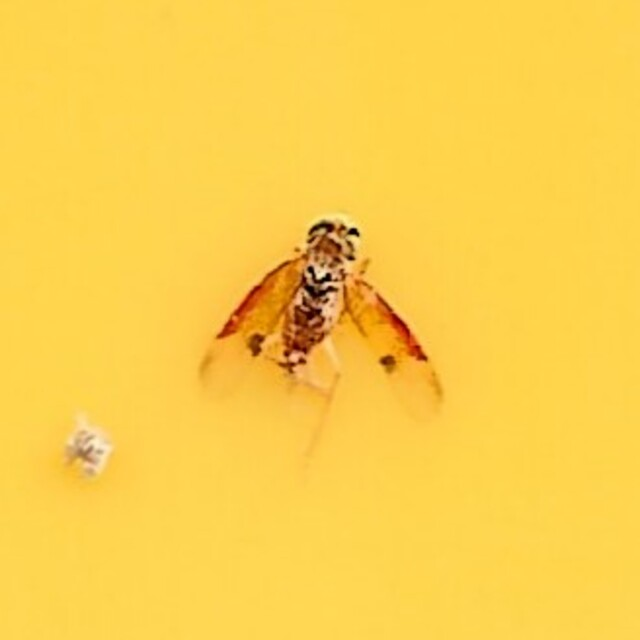Hemiptera: (195, 213, 445, 427)
